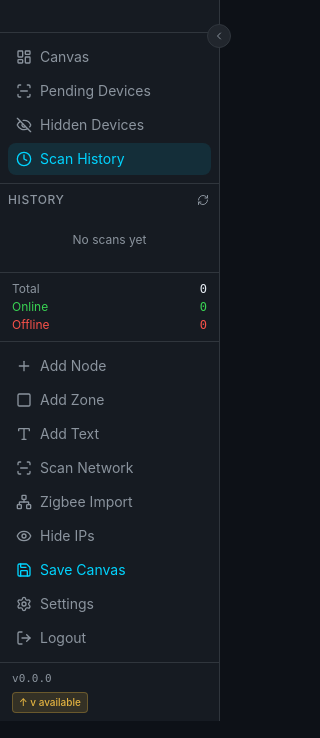
Test: Sidebar › allows switching views after forceView is set by parent
This screenshot has width=320, height=738.
Expected: the text "No scans yet" is shown, x1=72 y1=232 x2=146 y2=247
What coordinates should you click on to do the following:
click the button "Canvas"
I would click on:
 (110, 57)
Its box is x1=8 y1=41 x2=211 y2=73.
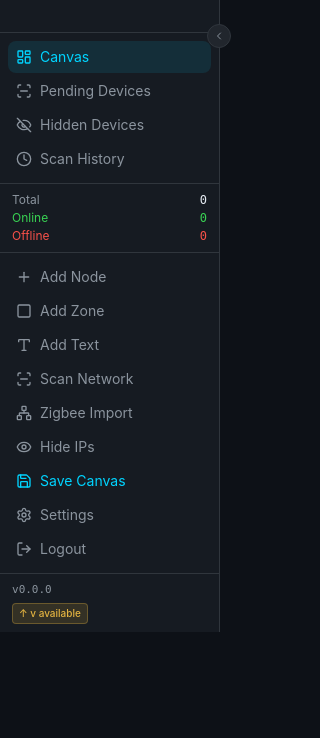
Result: the text "No scans yet" is gone
